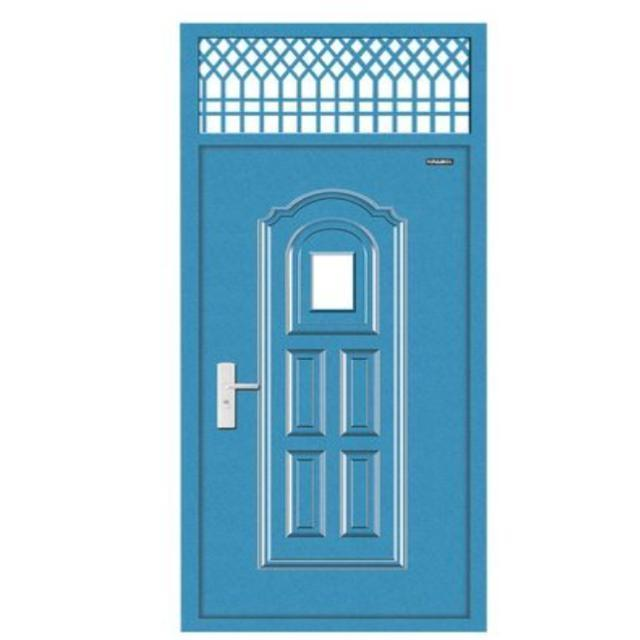door: (180, 20, 490, 632)
